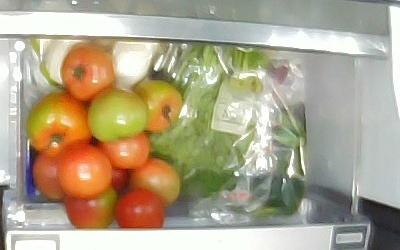tomato: (28, 92, 92, 156), (56, 141, 112, 200), (87, 87, 146, 142), (61, 46, 115, 102), (132, 79, 182, 133), (129, 156, 180, 206), (114, 188, 163, 228), (64, 191, 115, 229), (97, 131, 149, 167), (32, 153, 68, 202), (110, 164, 128, 190)
